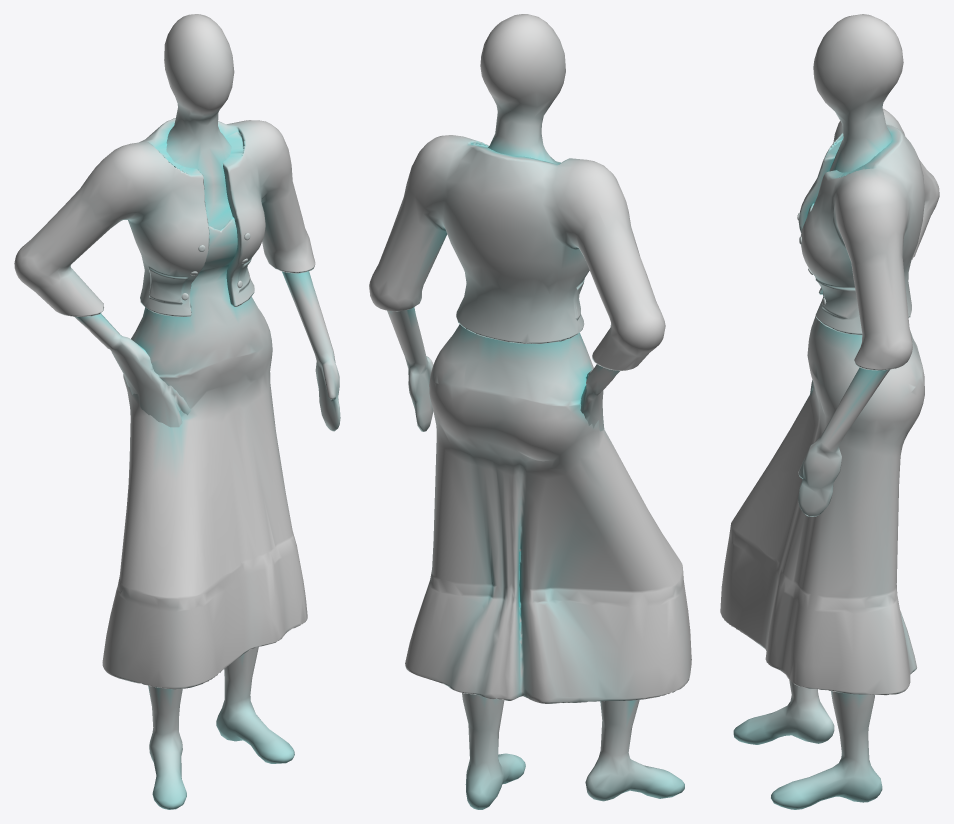
The model's file is mannequin-slip.glb.
3 renders of one model, left to right at view 1: azimuth 30°, elevation 25°; view 2: azimuth 150°, elevation 25°; view 3: azimuth 270°, elevation 25°, orthographic. The views are drawn at different scales.
Visible parts, largest first — view 1: dress, jacket, body; view 2: dress, jacket, body; view 3: dress, body, jacket.
Boxes of the visible parts, x1,y1,x2,y2 form: dress: [102, 217, 307, 689]; jacket: [14, 118, 315, 316]; body: [74, 14, 340, 809]; dress: [405, 324, 691, 703]; jacket: [369, 135, 665, 370]; body: [387, 14, 684, 809]; dress: [720, 203, 924, 695]; body: [733, 14, 903, 809]; jacket: [798, 108, 939, 370].
Size of the model in its own units: 0.7151 by 1.8 by 0.4673.
